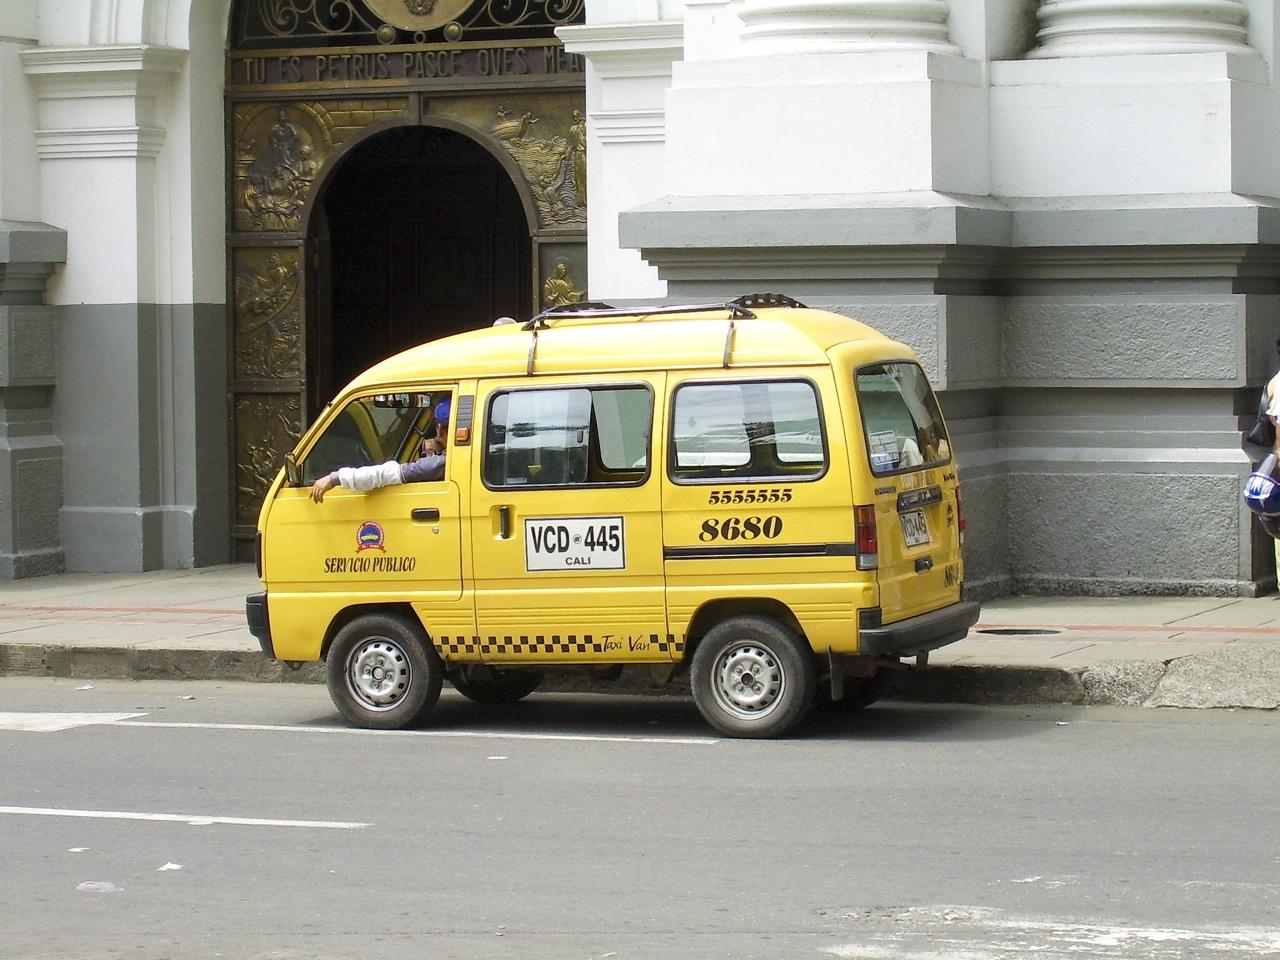taxi: (253, 283, 968, 737)
